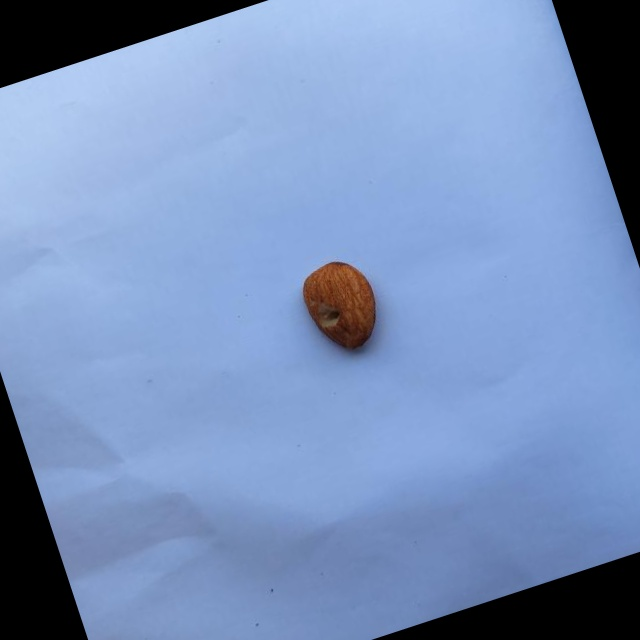grade3: (289, 248, 391, 365)
